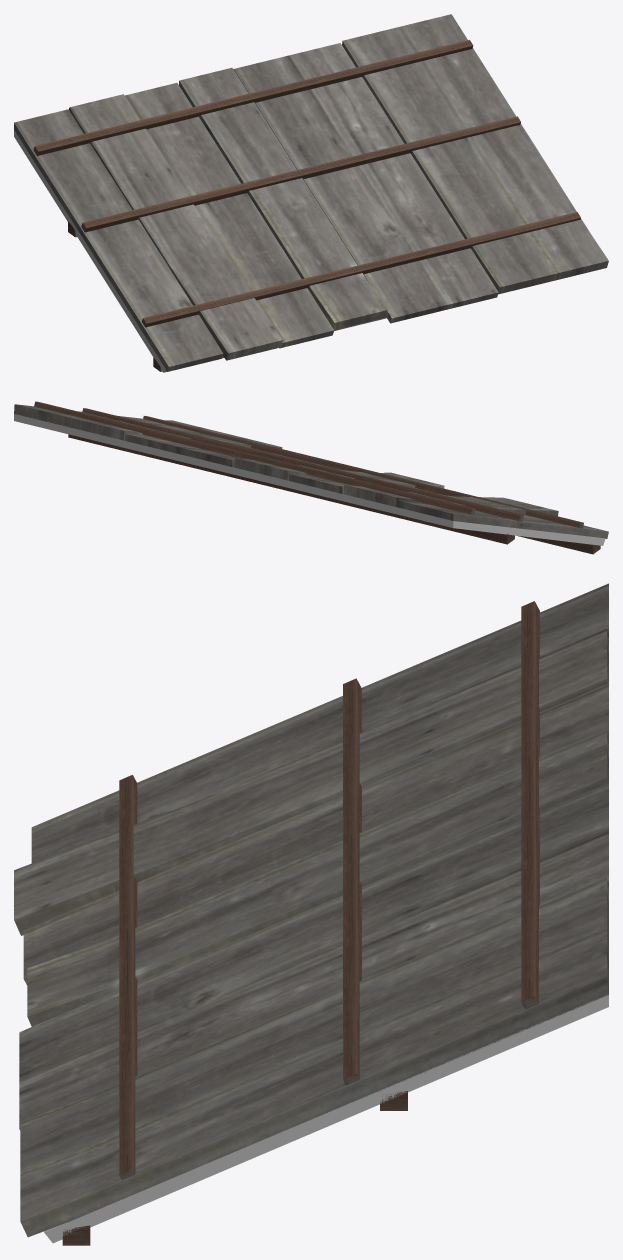
The model's file is itabuki_2x2t_a1middle.fbx.
3 views of the same model, one above another, from view 1: azimuth 30°, elevation 25°; view 2: azimuth 150°, elevation 25°; view 3: azimuth 270°, elevation 25° (orthographic). The views are drawn at different scales.
Visible parts, largest first — view 1: itabuki_2x2t_a1middle; view 2: itabuki_2x2t_a1middle; view 3: itabuki_2x2t_a1middle.
Boxes of the visible parts, x1,y1,x2,y2 form: itabuki_2x2t_a1middle: (14,14,608,372); itabuki_2x2t_a1middle: (14,401,608,554); itabuki_2x2t_a1middle: (14,583,608,1245).
Bounding box in the file's own units: 440 × 139 × 278.
